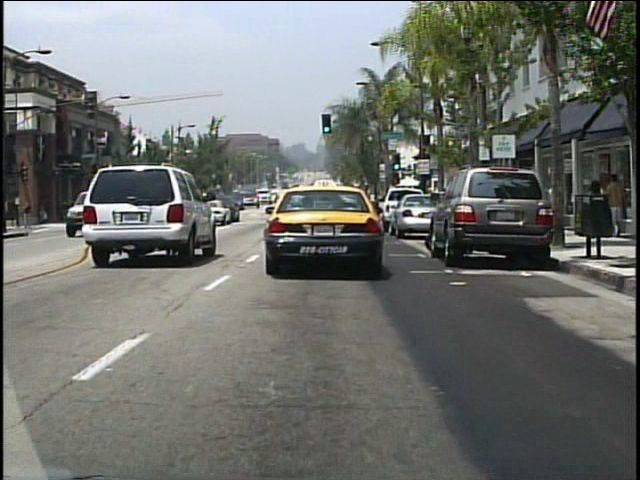person: (608, 171, 628, 232), (592, 181, 612, 241)
